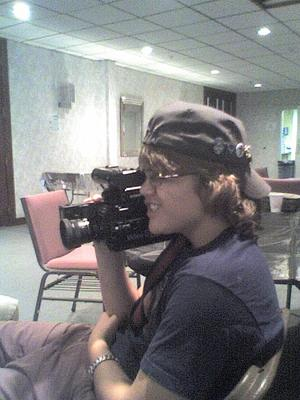person: (89, 102, 286, 400)
